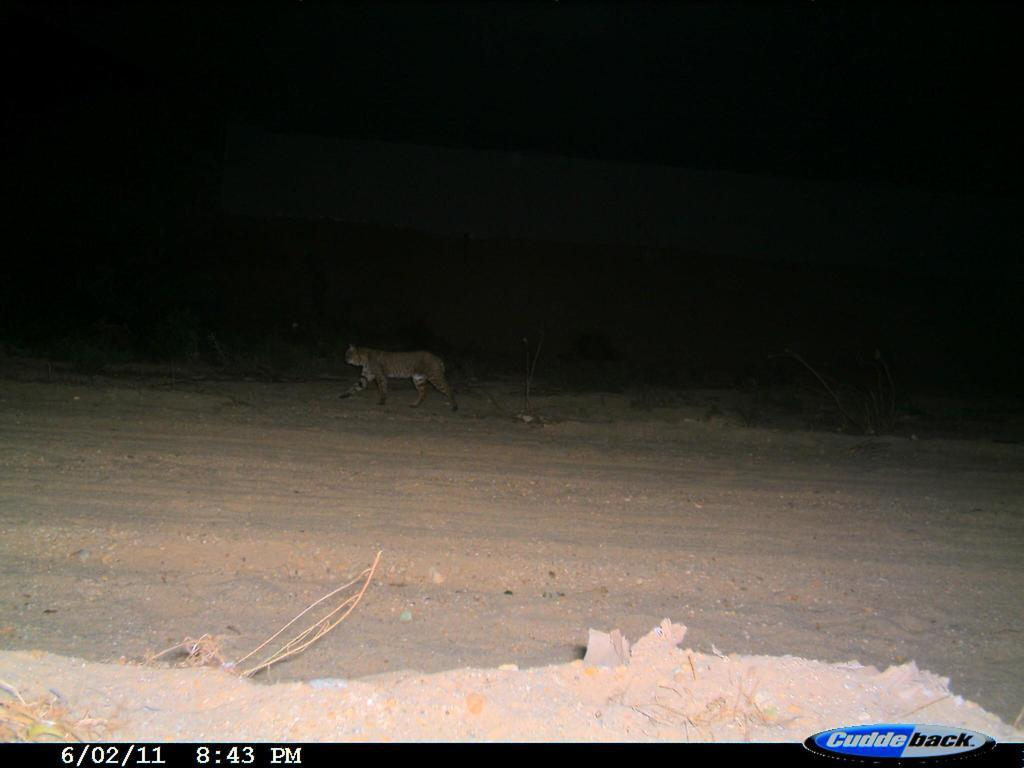bobcat: (340, 337, 473, 419)
